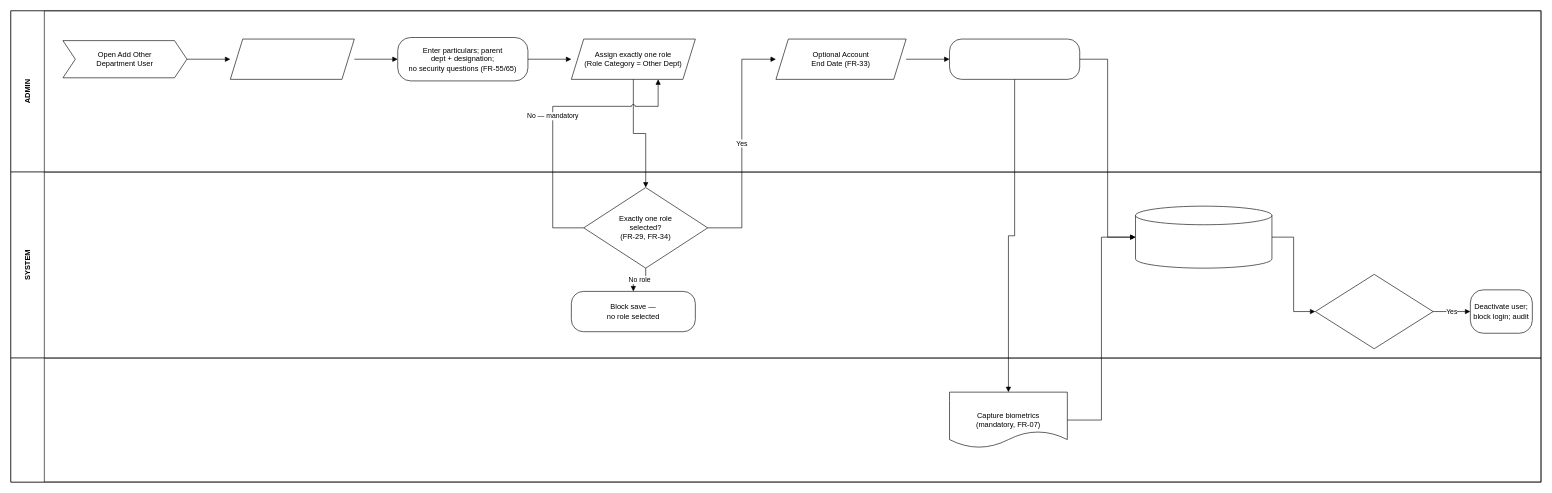
The diagram is 1552 pixels wide and 493 high, and some of its shapes have lost their labels. Here are the shapes that lost their labels. From the top down, the box of each, then its label:
(230, 38, 354, 79): Enter KGID — becomes Username (FR-62, FR-64)
(949, 38, 1080, 79): Upload authorisation letter / NOC (should, not mandatory)
(1135, 206, 1272, 268): Save — account active; module access for role
(1315, 274, 1433, 349): End Date reached? (FR-33)
(10, 357, 1541, 482): USER (biometrics)
